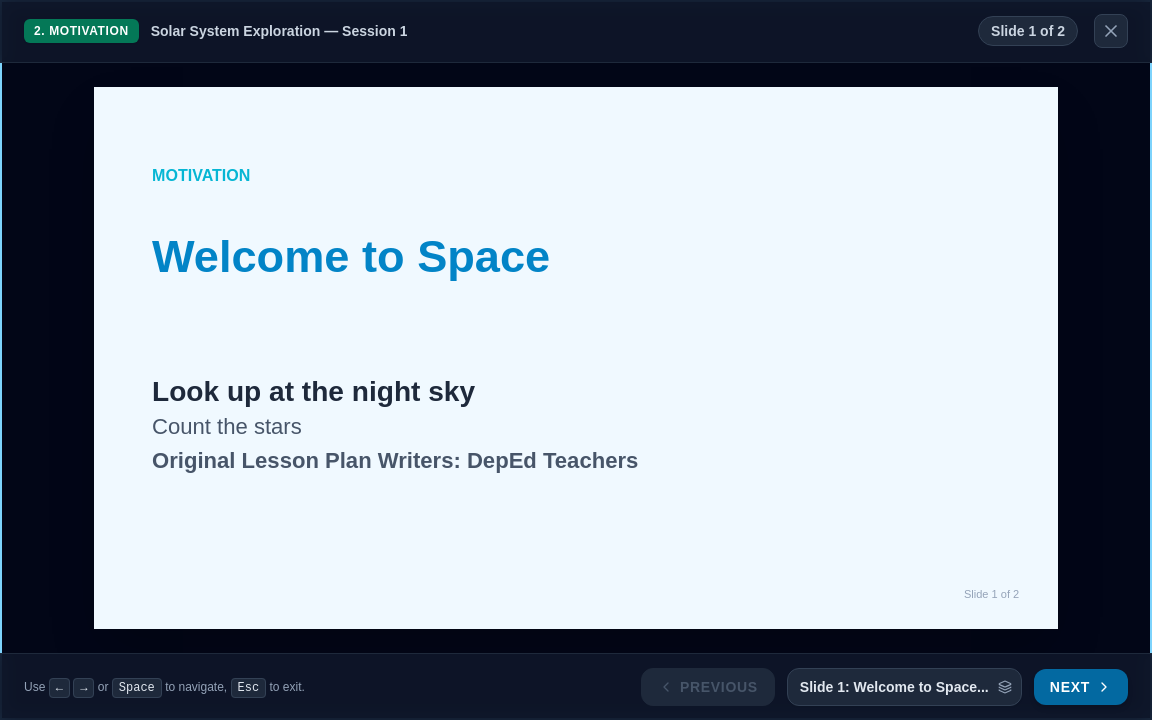
SlideshowModal component › handles mobile touch swipe navigation when delta > 60px
Press the mouse on the dialog: (576, 360) [0,0,1151,719]
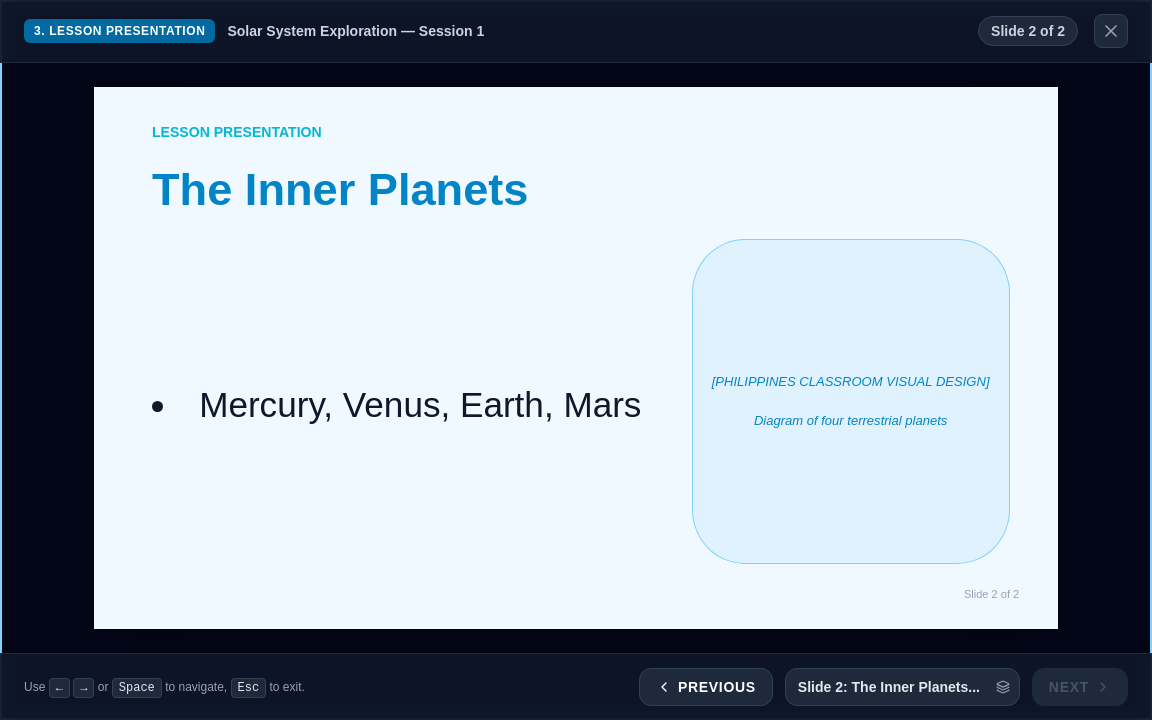
Result: the text "The Inner Planets" is shown at [152,164,528,215]
Press the mouse on the dialog: (576, 360) [0,0,1151,719]
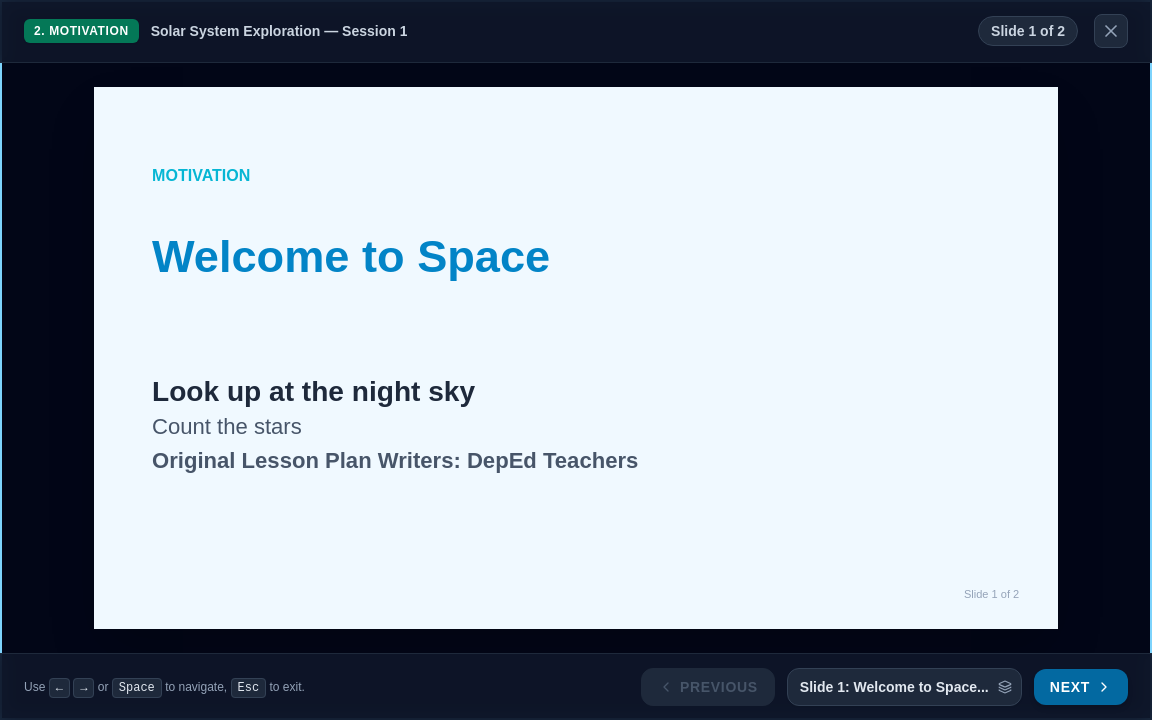
Result: the text "Welcome to Space" is shown at [152,231,550,282]
